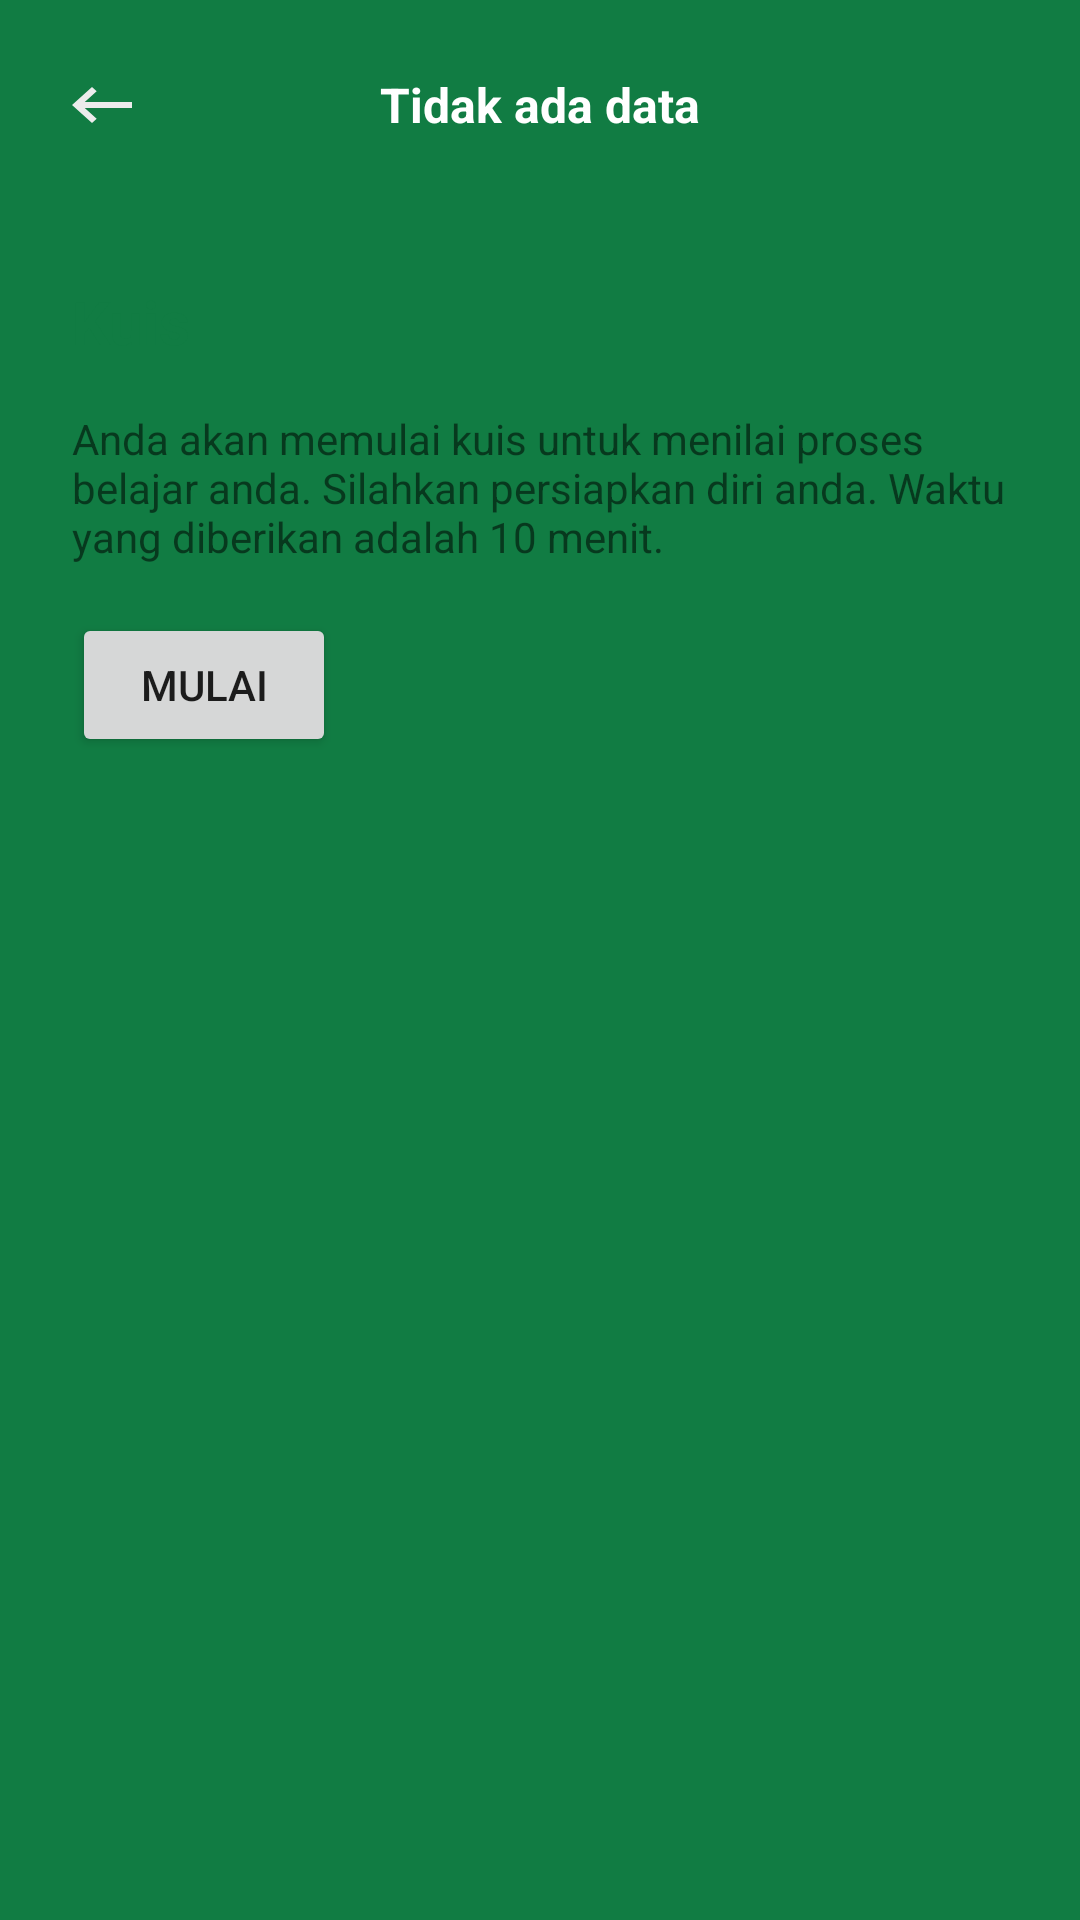

Icon bounding boxes for this 1080px×1920px phone screenshot, format (x1, y1, x2, y2):
Tombol Mundur: (72, 87, 132, 123)
